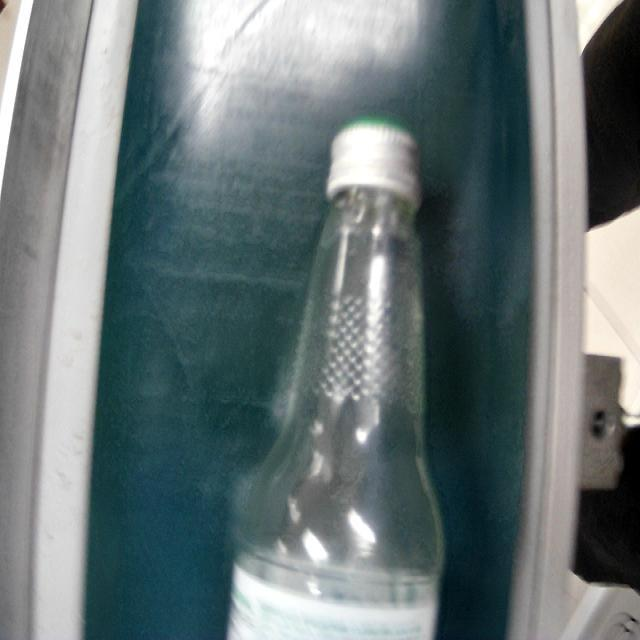Glass: (228, 117, 448, 640)
